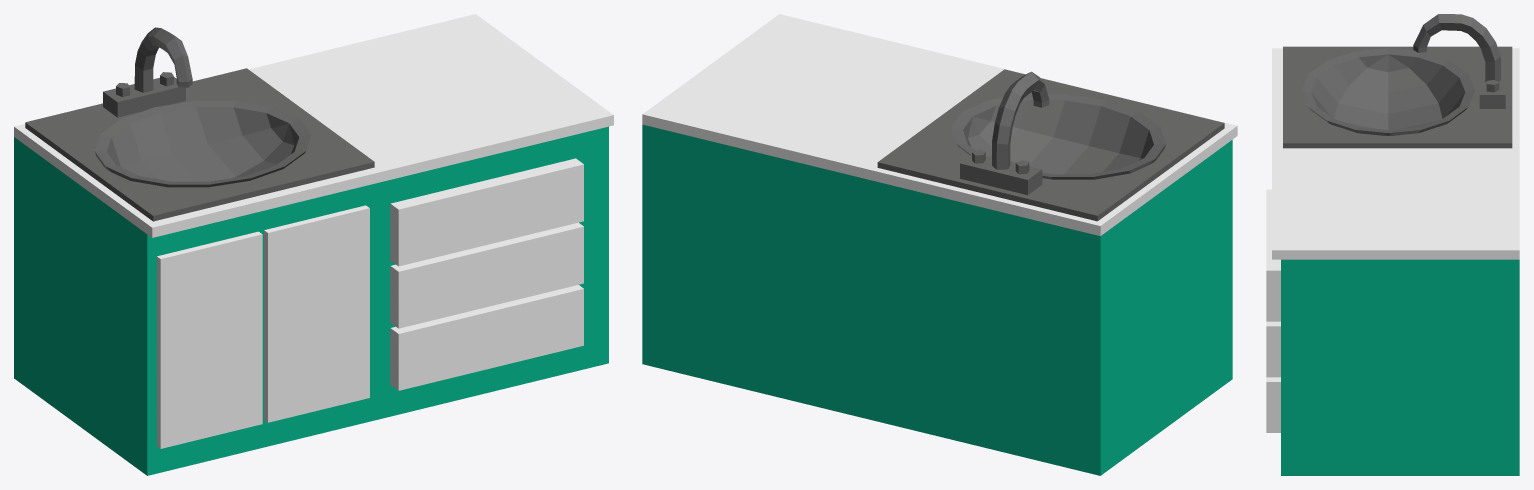
The model's file is sink.fbx.
The picture shows the model from 3 angles, left to right: view 1: azimuth 30°, elevation 25°; view 2: azimuth 150°, elevation 25°; view 3: azimuth 270°, elevation 25°; orthographic projection. The views are drawn at different scales.
Visible parts, largest first — view 1: sink; view 2: sink; view 3: sink.
Part boxes in pixels (<box>): sink: <box>14,14,613,475</box>; sink: <box>642,14,1237,475</box>; sink: <box>1266,14,1519,475</box>.
Size of the model in its own units: 396 by 284 by 210.
